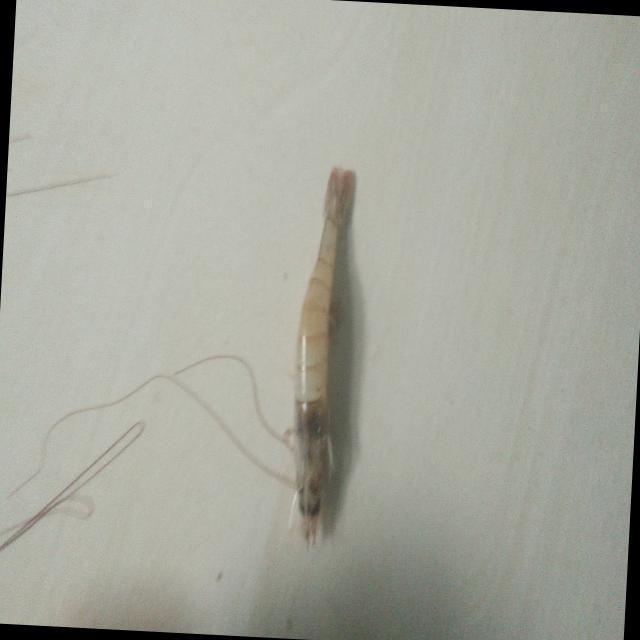shrimp: (295, 167, 354, 542)
